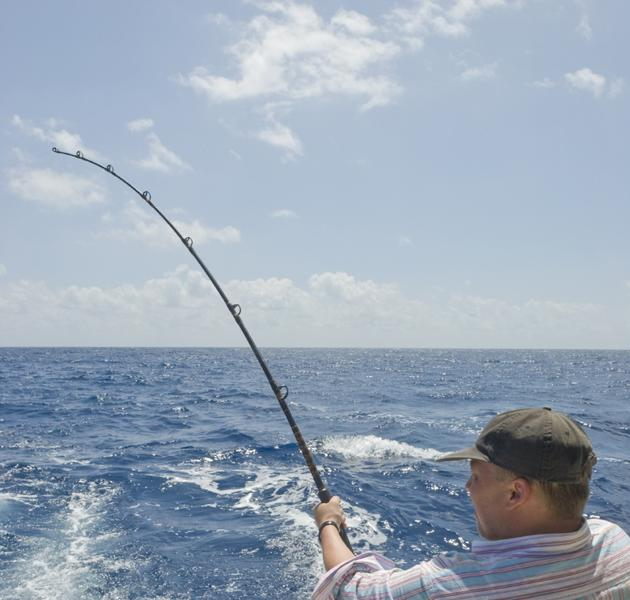person: (312, 412, 630, 598)
